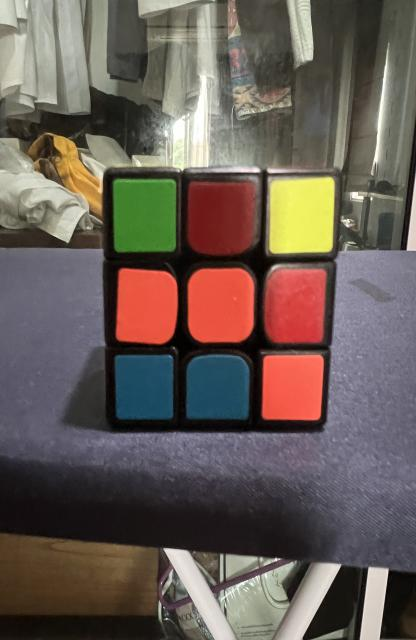Blue: (186, 354, 249, 420), (115, 355, 173, 420)
Green: (113, 179, 177, 252)
Orange: (187, 268, 255, 342), (116, 269, 178, 345), (262, 355, 324, 421)
Red: (187, 181, 256, 255), (264, 269, 326, 342)
Yellow: (269, 176, 335, 254)
